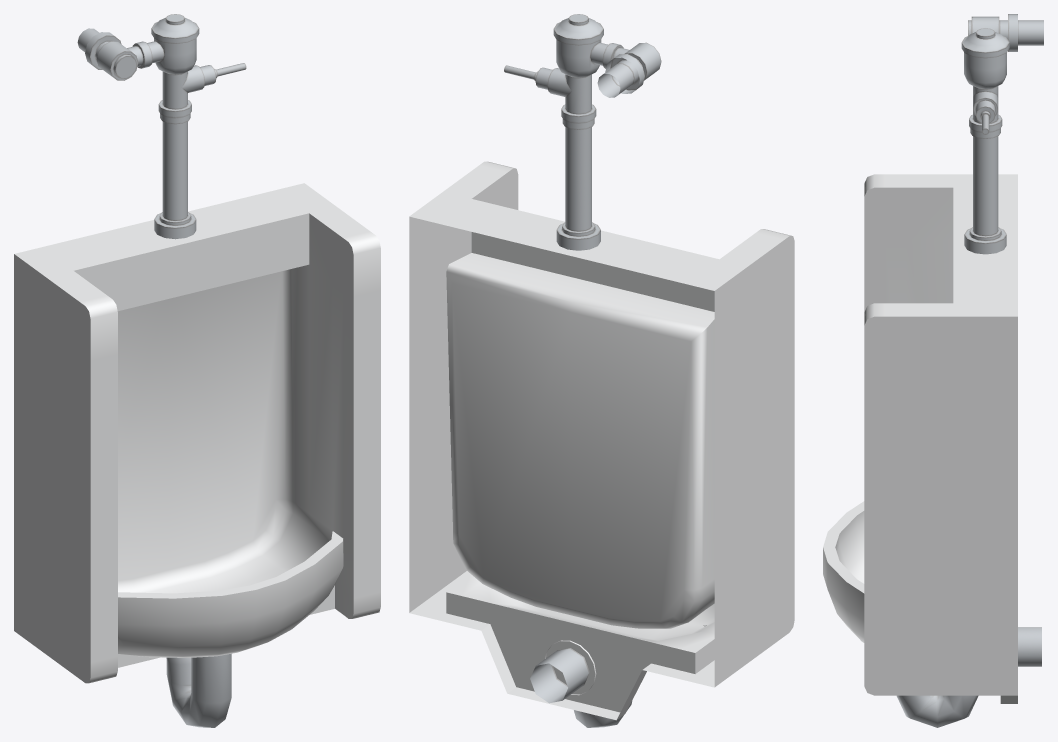
Rendered from Urinal_A.fbx.
The picture shows the model from 3 angles, left to right: view 1: azimuth 30°, elevation 25°; view 2: azimuth 150°, elevation 25°; view 3: azimuth 270°, elevation 25°; orthographic projection. The views are drawn at different scales.
Visible parts, largest first — view 1: Urinal_A; view 2: Urinal_A; view 3: Urinal_A.
Boxes of the visible parts, <box> form: Urinal_A: <box>14,14,380,727</box>; Urinal_A: <box>409,14,794,727</box>; Urinal_A: <box>823,14,1043,727</box>.
Bounding box in the file's own units: 27.3 × 62.14 × 17.9.
